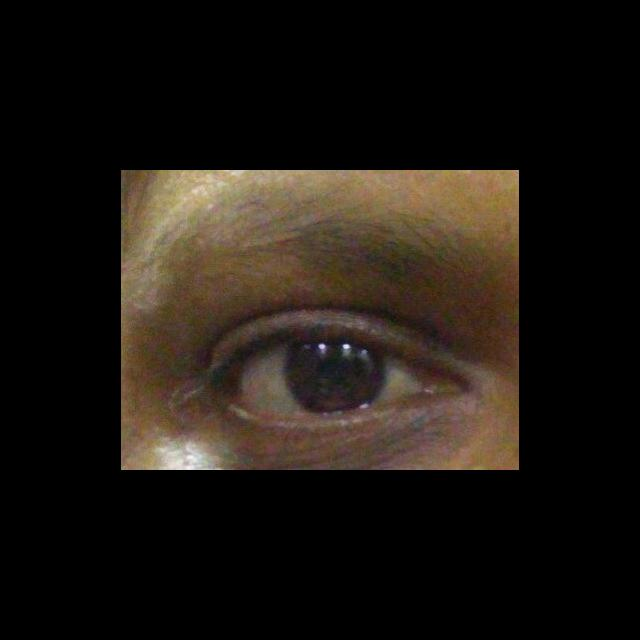eye: (226, 337, 425, 415)
iris: (285, 340, 385, 413)
